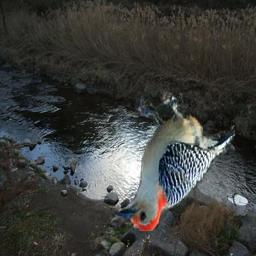Woodpecker: (115, 93, 235, 232)
